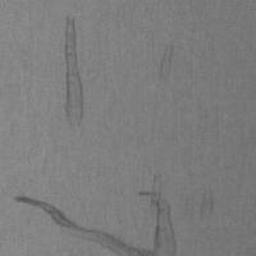Water spot: (13, 172, 178, 256), (63, 14, 86, 138), (157, 42, 175, 78), (197, 187, 215, 221)
